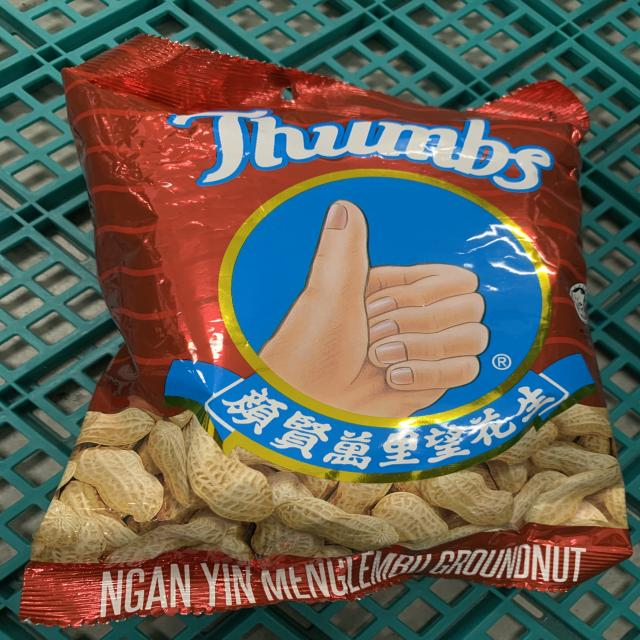object_name: (87, 64, 601, 592)
